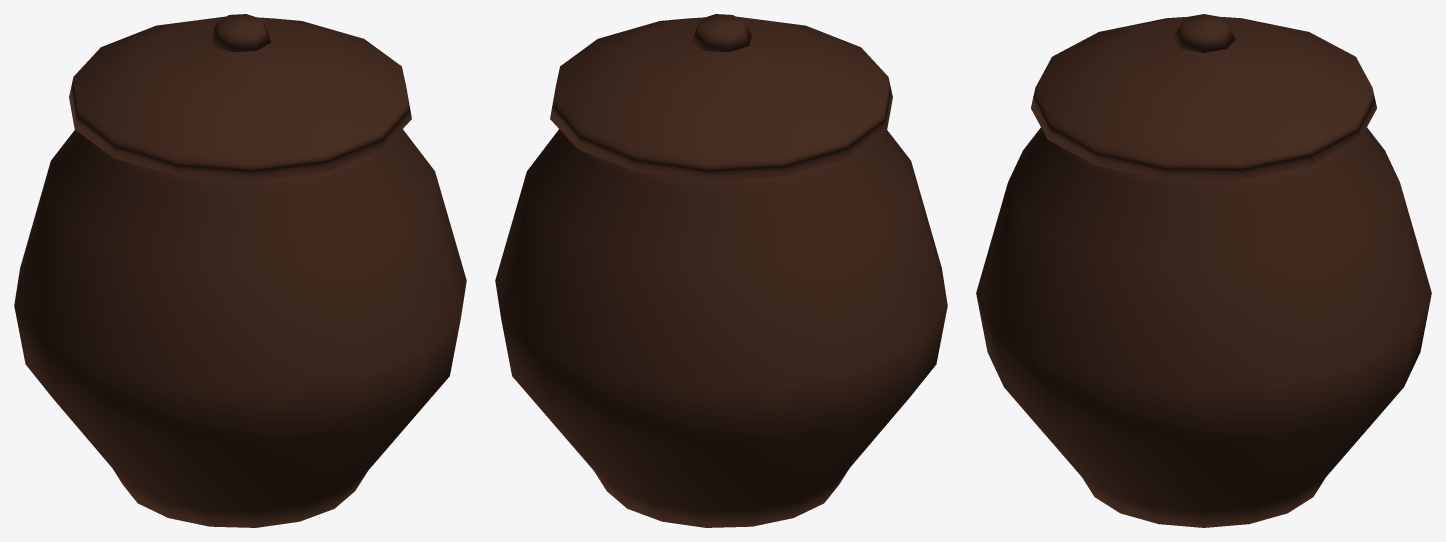
File: onggi-small.glb
3 views of the same model, side by side, from view 1: azimuth 30°, elevation 25°; view 2: azimuth 150°, elevation 25°; view 3: azimuth 270°, elevation 25° (orthographic).
Visible parts, largest first — view 1: onggi-jar-small_0; view 2: onggi-jar-small_0; view 3: onggi-jar-small_0.
Part boxes in pixels (box(x1,y1,x2,y2)): onggi-jar-small_0: box(14, 14, 466, 527); onggi-jar-small_0: box(495, 14, 947, 527); onggi-jar-small_0: box(976, 14, 1431, 527).
Size of the model in its own units: 0.38 by 0.4198 by 0.38.
